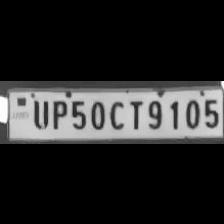0: (88, 97, 106, 129), (182, 96, 200, 128)
1: (165, 97, 181, 129)
5: (200, 94, 220, 128), (67, 97, 87, 129)
9: (143, 97, 163, 129)
C: (106, 97, 126, 129)
P: (47, 97, 67, 129)
T: (125, 96, 143, 130)
U: (28, 96, 48, 128)
